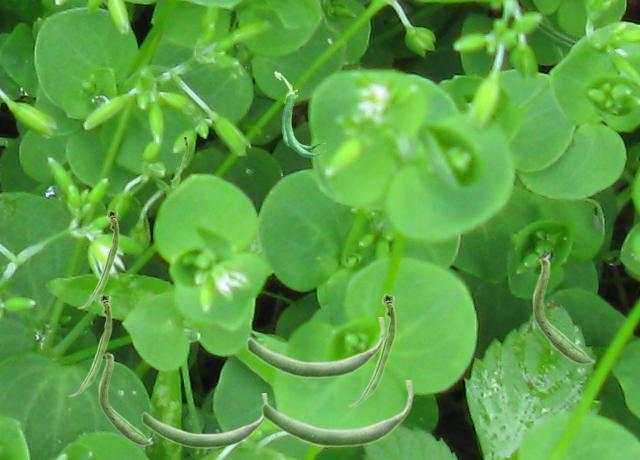french_bean: (261, 380, 412, 447), (246, 317, 384, 378), (141, 393, 267, 448), (532, 256, 594, 364), (348, 293, 395, 406), (98, 351, 152, 445), (68, 293, 111, 396), (274, 71, 325, 156), (77, 209, 118, 308), (170, 136, 187, 180)
